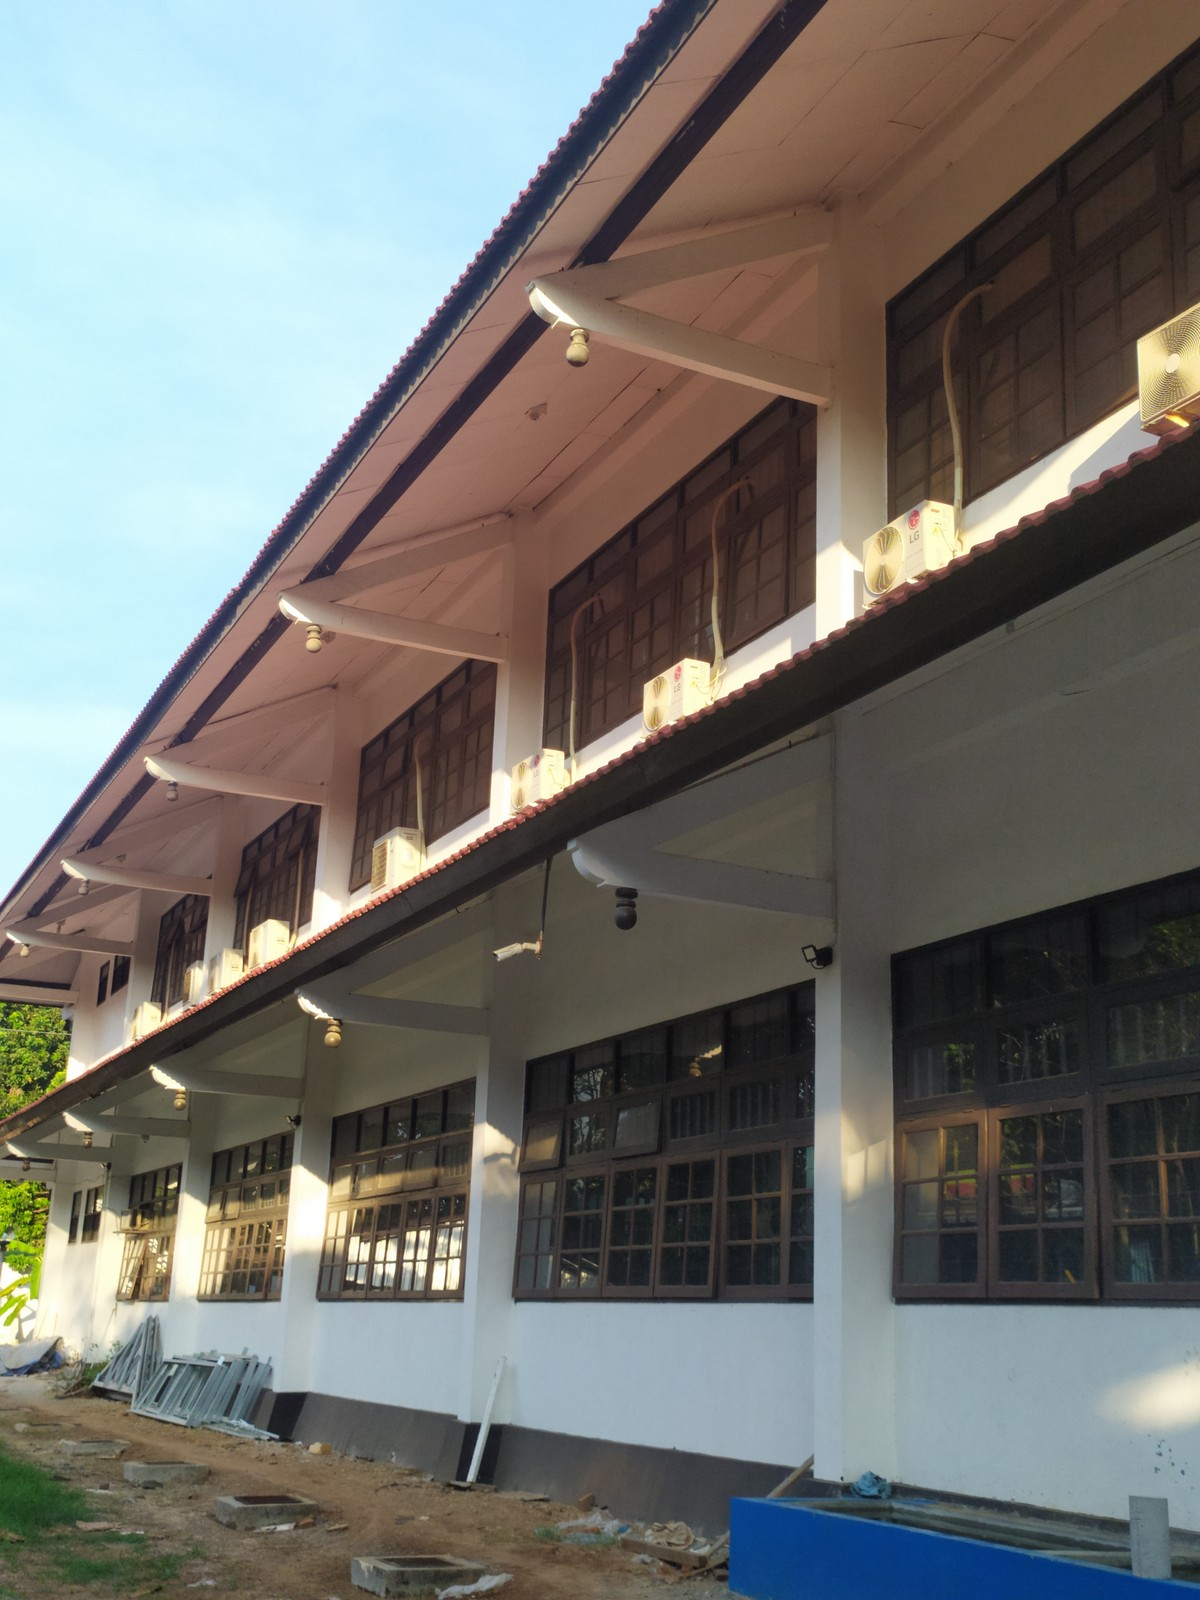concrete column: (803, 736, 904, 1498), (800, 179, 901, 634), (463, 910, 539, 1431)
